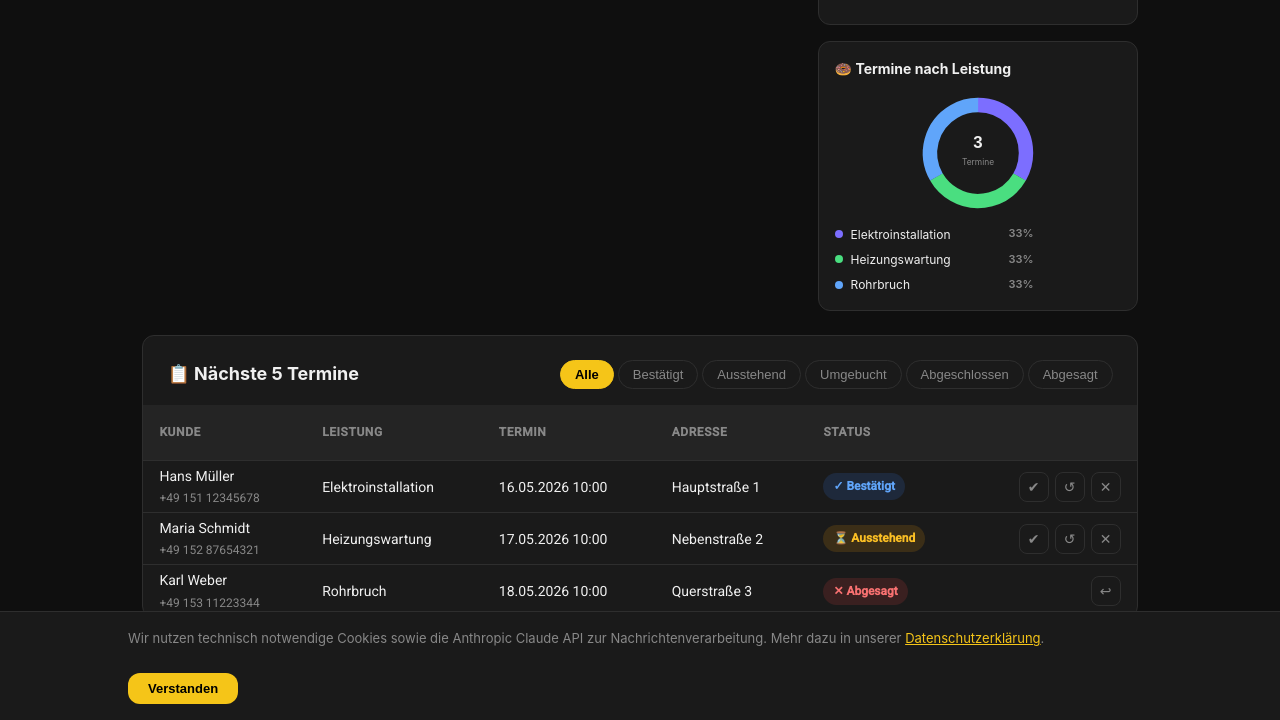
it: Dashboard – Statistiken und Filter › filtert auf bestätigte Termine
This screenshot has width=1280, height=720.
(page scrolled)
Click the button with test id "filter-confirmed": x=659, y=375 [618,360,699,389]
(page scrolled)
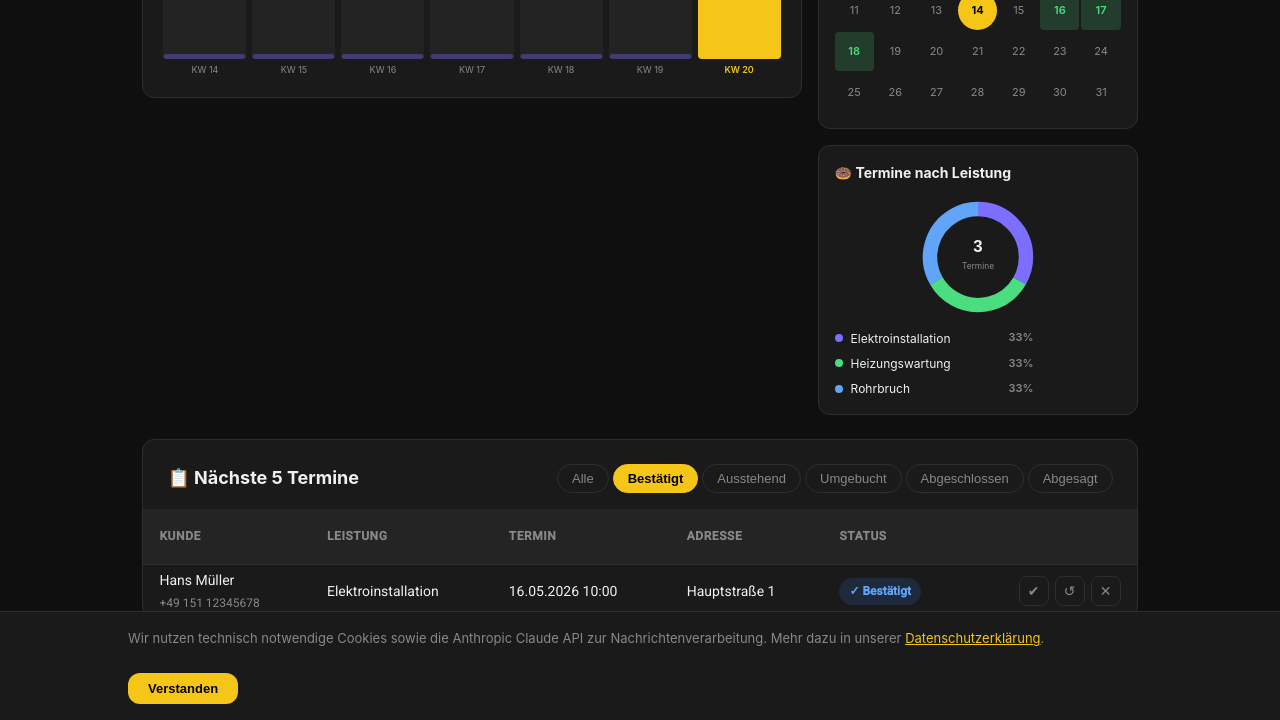
expect the element with test id "appointments-table" shows "Hans Müller": met, box [143,509,1136,617]
expect the text with test id "appointments-table" no longer shows "Maria Schmidt": met
expect the text with test id "appointments-table" no longer shows "Karl Weber": met
